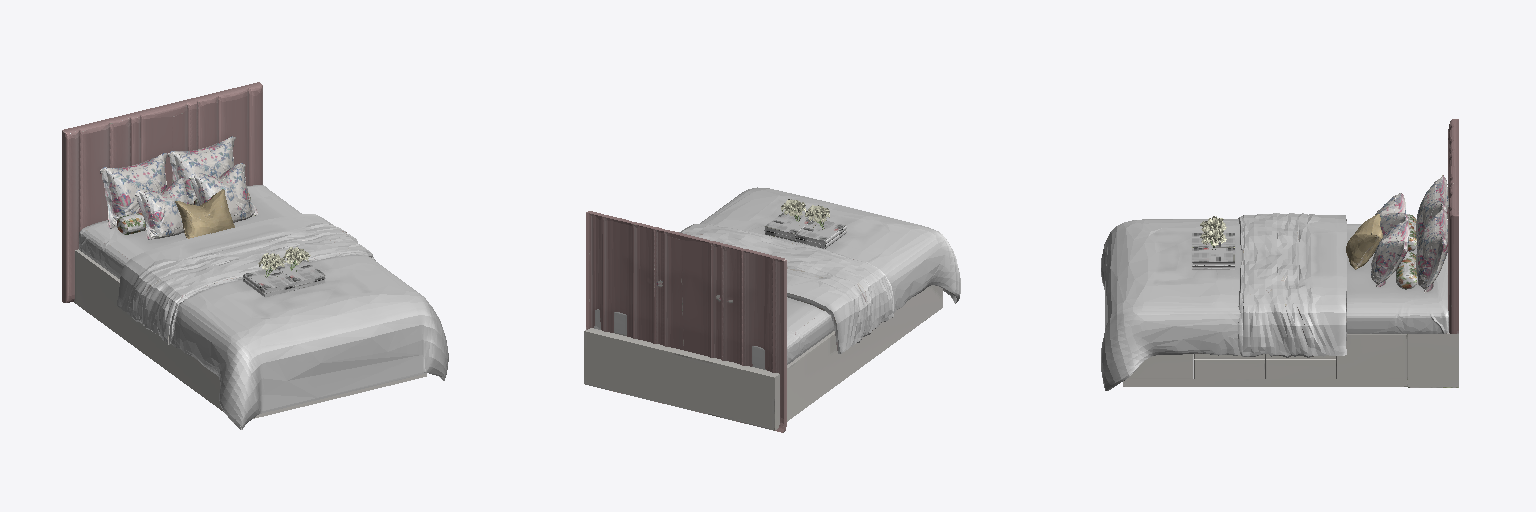
The picture shows the model from 3 angles: view 1: azimuth 30°, elevation 25°; view 2: azimuth 150°, elevation 25°; view 3: azimuth 270°, elevation 25°; orthographic projection.
Parts seen in each view (by area): view 1: solid_013, solid_002, solid_004, solid_006, solid_005, solid_007, solid_001, glass_002, solid_003; view 2: solid_004, solid_005, solid_002, solid_013, solid_007, glass_002; view 3: solid_002, solid_013, solid_005, solid_006, solid_004, solid_007, solid_001, solid_003, glass_002.
Part boxes in pixels (bbox=[...]): solid_013: bbox=[151, 252, 448, 429]; solid_002: bbox=[79, 185, 372, 344]; solid_004: bbox=[62, 82, 262, 302]; solid_006: bbox=[100, 136, 257, 239]; solid_005: bbox=[74, 249, 426, 418]; solid_007: bbox=[243, 260, 325, 297]; solid_001: bbox=[175, 189, 234, 238]; glass_002: bbox=[258, 247, 310, 269]; solid_003: bbox=[117, 192, 250, 234]; solid_004: bbox=[586, 211, 786, 432]; solid_005: bbox=[584, 285, 942, 430]; solid_002: bbox=[594, 224, 957, 369]; solid_013: bbox=[700, 187, 960, 313]; solid_007: bbox=[764, 212, 846, 248]; glass_002: bbox=[781, 199, 829, 221]; solid_002: bbox=[1108, 213, 1448, 390]; solid_013: bbox=[1101, 216, 1243, 390]; solid_005: bbox=[1123, 333, 1458, 387]; solid_006: bbox=[1371, 175, 1448, 292]; solid_004: bbox=[1448, 119, 1458, 333]; solid_007: bbox=[1192, 233, 1234, 269]; solid_001: bbox=[1346, 214, 1382, 269]; solid_003: bbox=[1396, 214, 1417, 289]; glass_002: bbox=[1200, 216, 1226, 245].
Size of the model in its own units: 1.4 by 1.03 by 1.94.
1 materials, 1 textured.